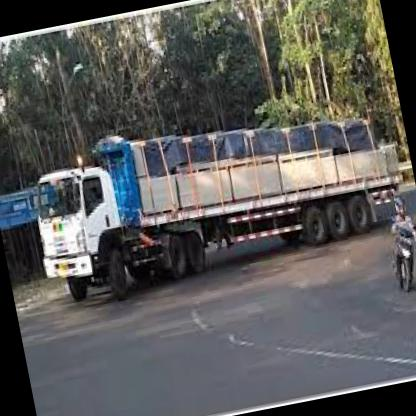truck: (26, 158, 140, 318)
